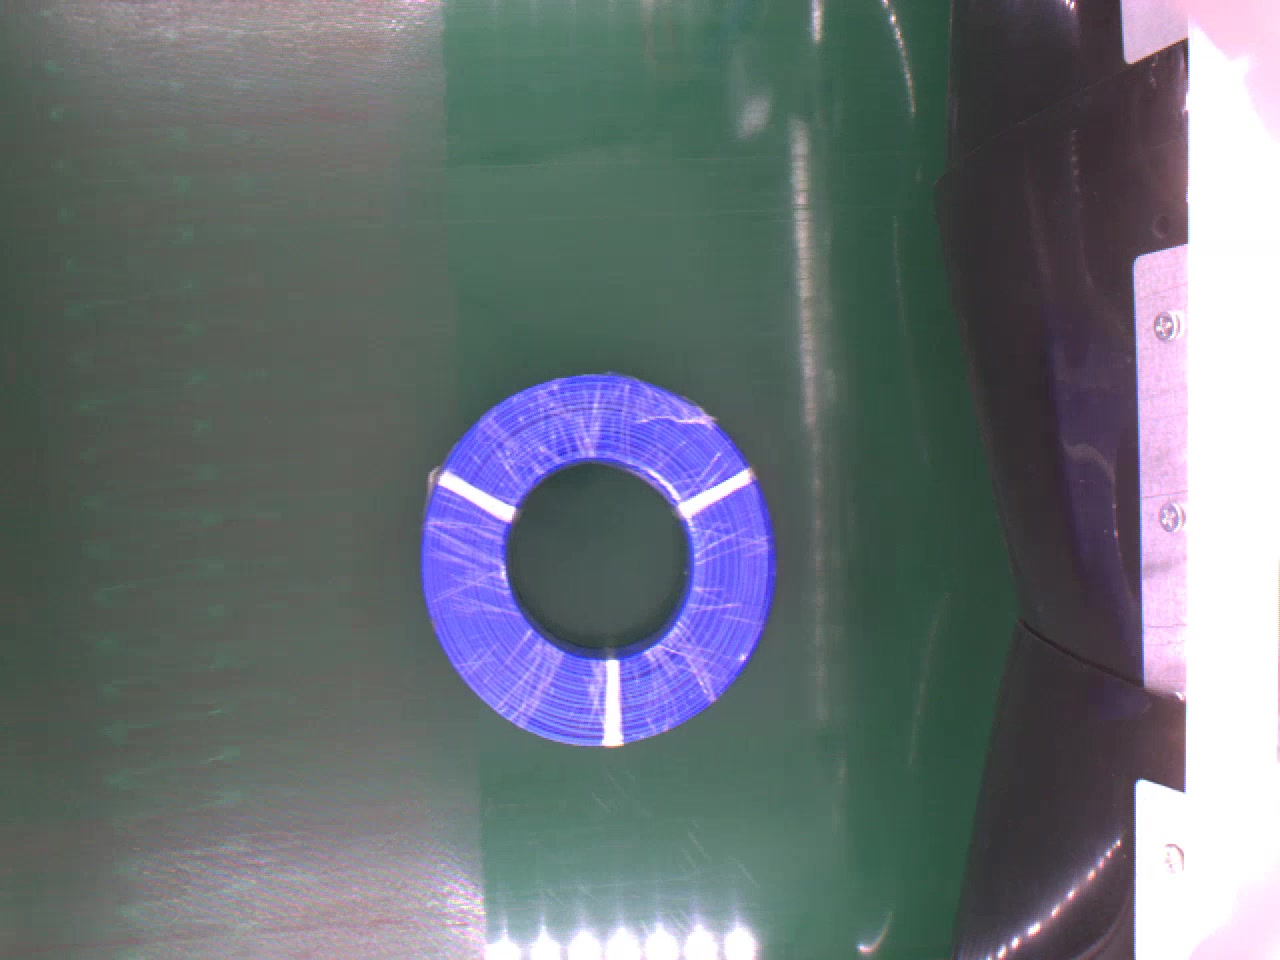blue: (415, 370, 775, 746)
